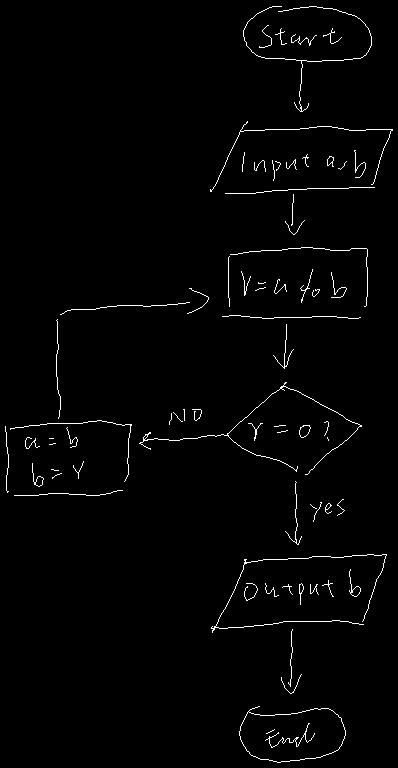arrow: (56, 288, 208, 418), (139, 432, 228, 449), (281, 629, 301, 693), (285, 481, 301, 544), (273, 324, 293, 368), (285, 194, 304, 234), (294, 60, 308, 111)
data: (211, 554, 386, 632), (210, 121, 392, 193)
decision: (227, 382, 361, 474)
process: (222, 247, 367, 318), (5, 420, 131, 495)
terminator: (243, 6, 371, 61), (239, 706, 345, 762)
text: (244, 569, 360, 604), (242, 150, 365, 180), (241, 269, 346, 302), (25, 427, 83, 486), (259, 25, 341, 47), (248, 421, 328, 440), (265, 723, 314, 747), (310, 499, 344, 521), (169, 409, 201, 424)
